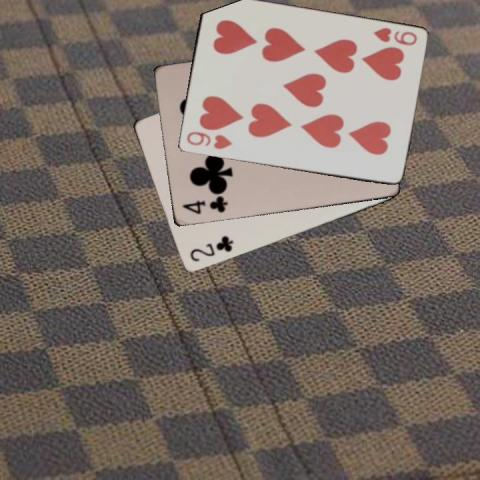2c: (186, 233, 234, 263)
4c: (180, 195, 229, 216)
9h: (183, 129, 233, 151), (370, 25, 419, 47)
